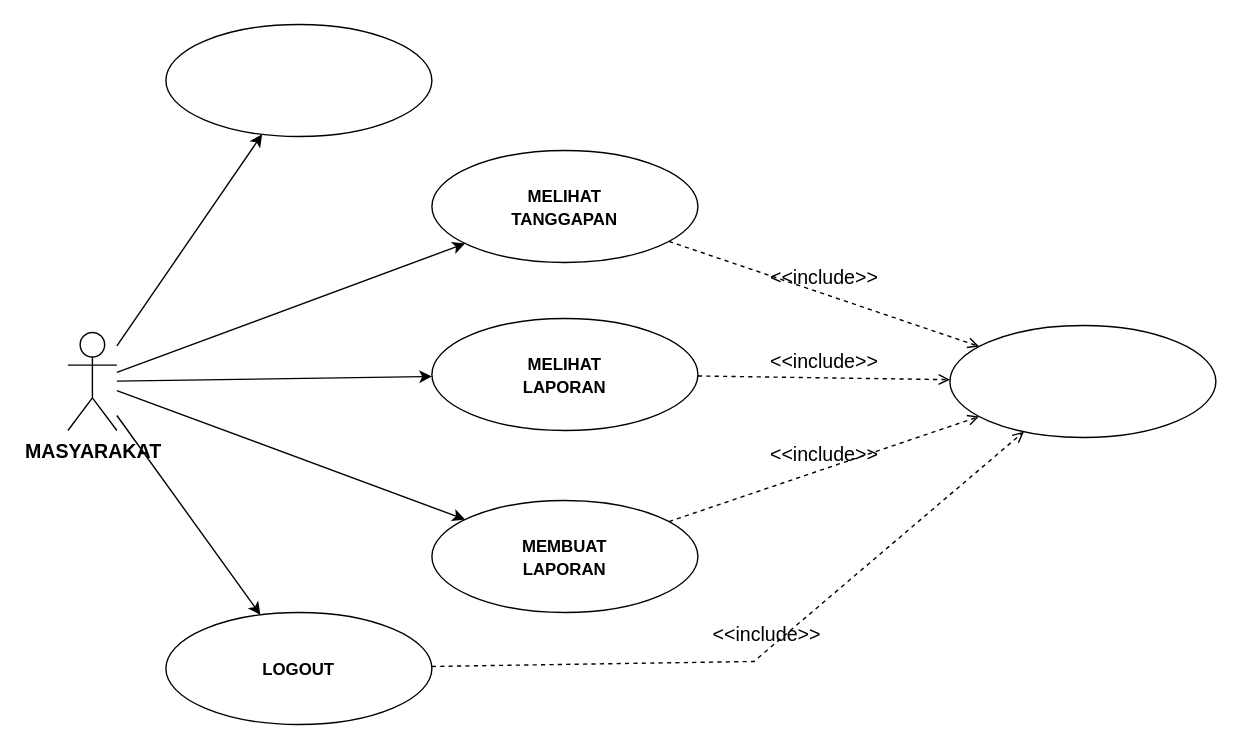
This 1240x749 diagram has some shape labels left out. Here are the shapes that lost their labels. From the top down, the centre of each, then its label:
At point 298,79: "REGISTRASI".
At point 1082,381: "LOGIN".
